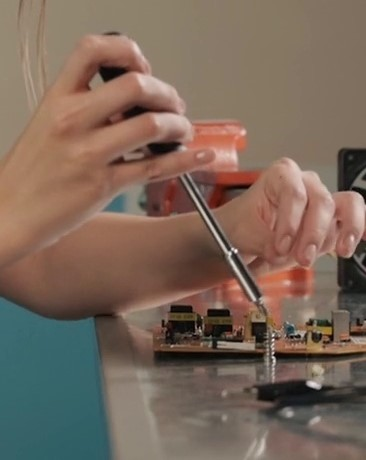screwdriver: (88, 27, 261, 308)
